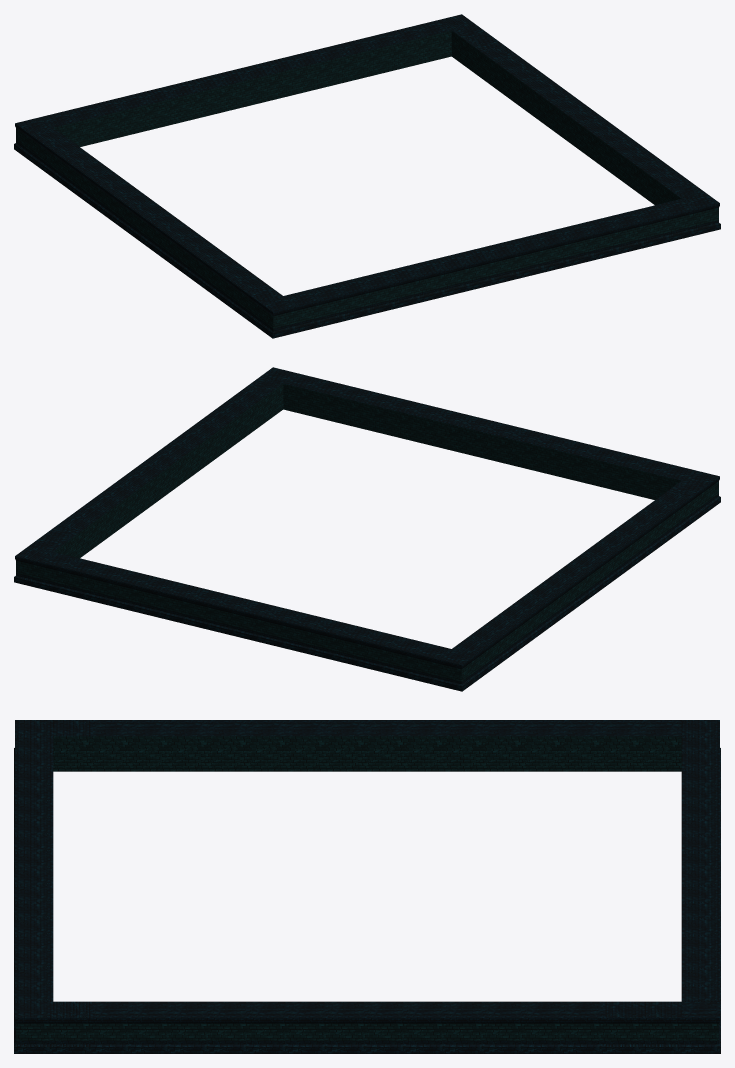
File: board.glb
The picture shows the model from 3 angles, top to bottom: view 1: azimuth 30°, elevation 25°; view 2: azimuth 150°, elevation 25°; view 3: azimuth 270°, elevation 25°; orthographic projection. The views are drawn at different scales.
Visible parts, largest first — view 1: floor_side (×63), floor_corner (×3); view 2: floor_side (×62), floor_corner (×4); view 3: floor_side (×63), floor_corner (×6).
Boxes of the visible parts, bbox=[...] form: floor_side (×63): bbox=[28, 20, 695, 332]; floor_corner (×3): bbox=[14, 117, 720, 338]; floor_side (×62): bbox=[39, 373, 706, 685]; floor_corner (×4): bbox=[14, 378, 720, 691]; floor_side (×63): bbox=[14, 720, 720, 1053]; floor_corner (×6): bbox=[14, 720, 720, 1053].
Size of the model in its own units: 18 by 1 by 18.
138 materials, 138 textured.
